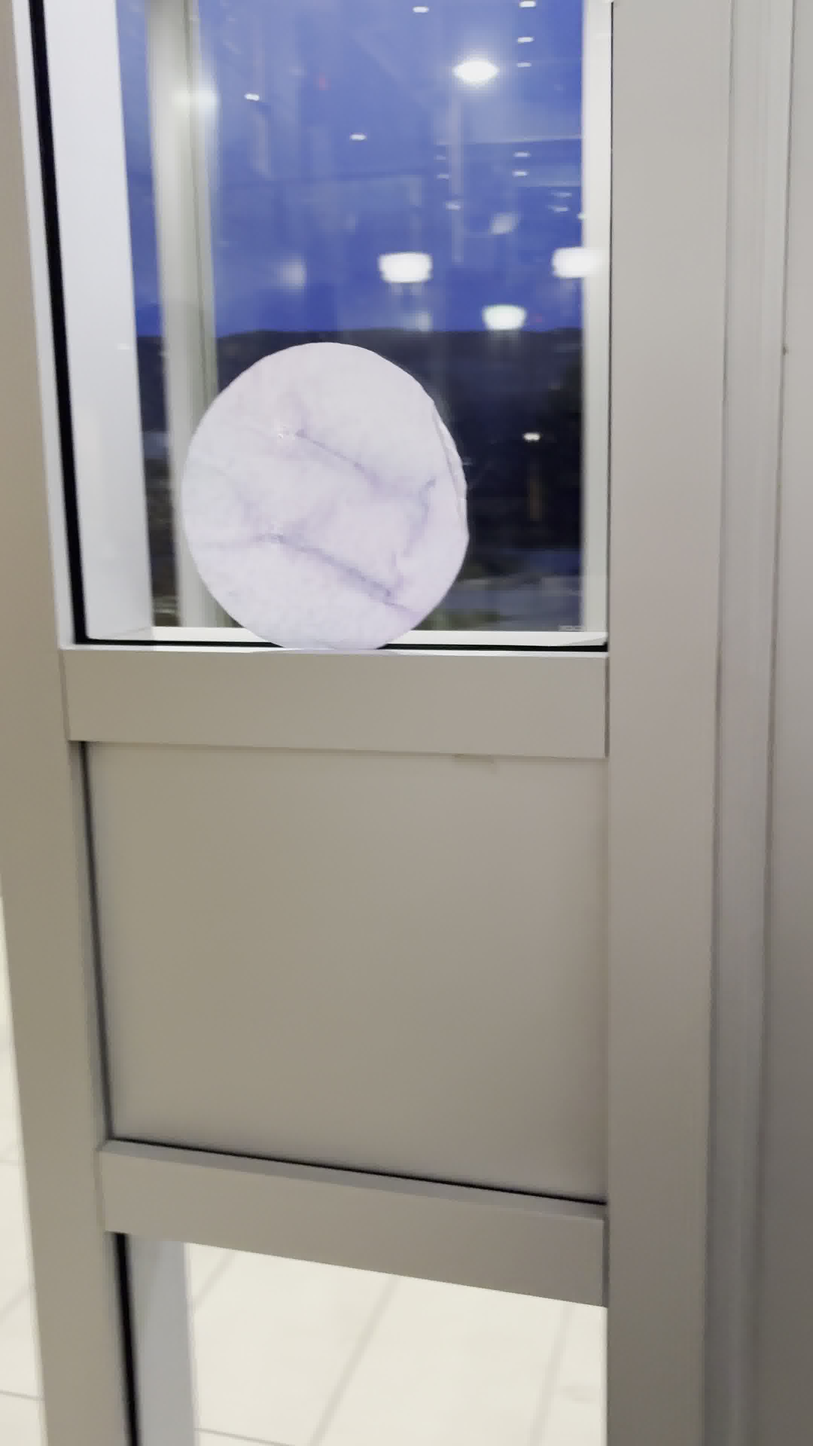Target: (178, 335, 475, 657)
